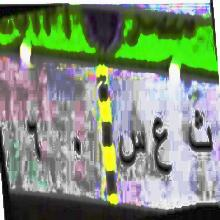0: (24, 113, 44, 169), (72, 126, 85, 164)
ain: (152, 111, 174, 180)
seen: (120, 127, 146, 174)
thaa: (184, 106, 213, 163)
